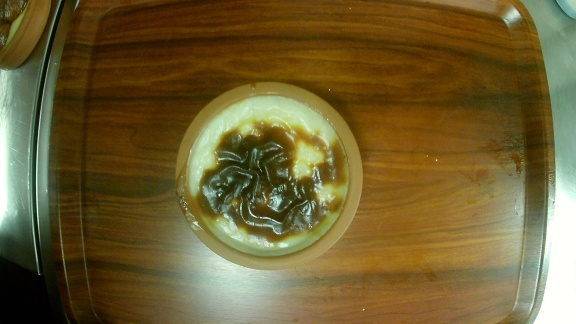sutlac: (175, 80, 363, 270)
